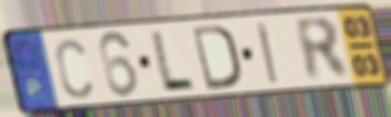6: (98, 29, 141, 100)
C: (53, 36, 95, 101)
D: (189, 22, 242, 92)
I: (254, 19, 280, 87)
L: (148, 28, 198, 92)
R: (290, 15, 354, 84)
